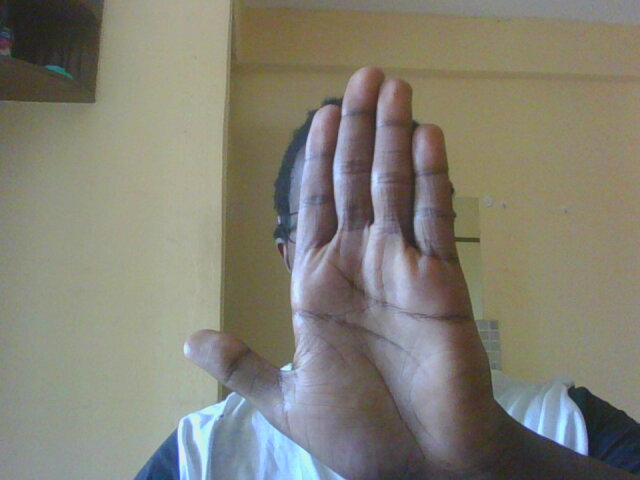Hello: (184, 58, 481, 433)
